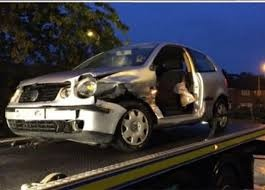Broken-glass: (60, 77, 107, 98)
Smashed: (66, 44, 205, 146)
